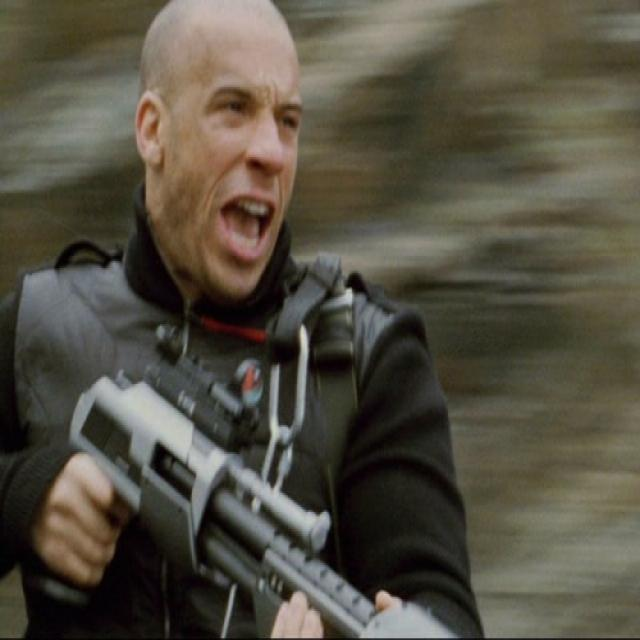rifle: (57, 317, 389, 640)
